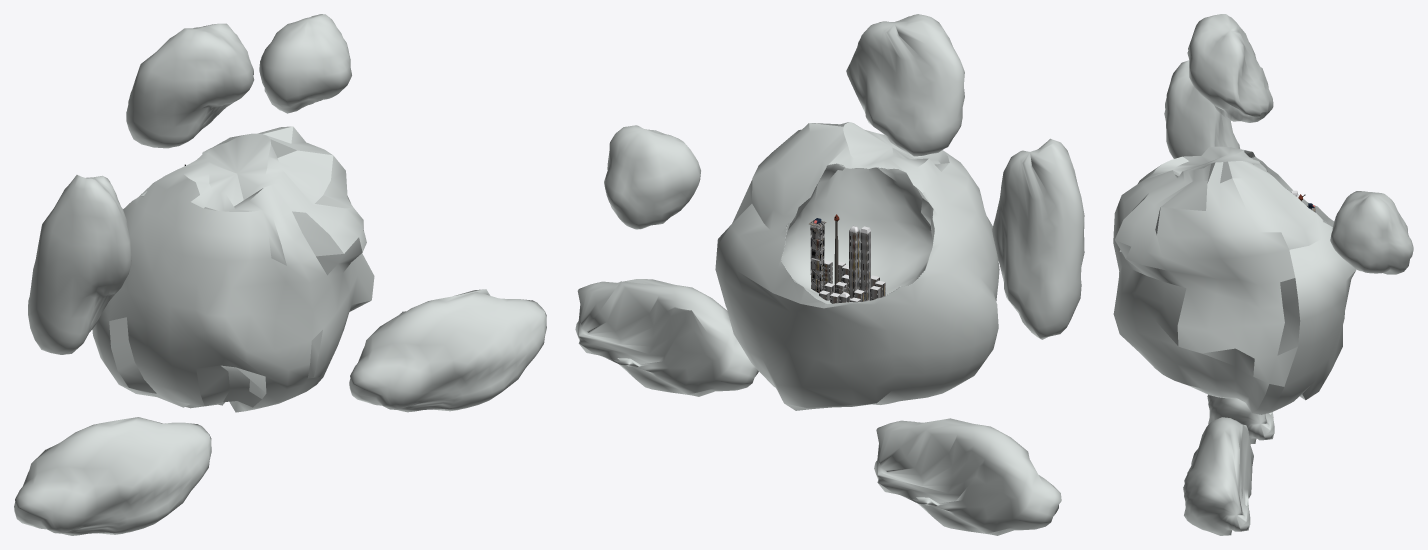
The model's file is asteroid.fbx.
3 views of the same model, side by side, from view 1: azimuth 30°, elevation 25°; view 2: azimuth 150°, elevation 25°; view 3: azimuth 270°, elevation 25° (orthographic). The views are drawn at different scales.
Visible parts, largest first — view 1: Sphere, Sphere.005, Sphere.004, Sphere.003, Sphere.002, Sphere.001; view 2: Sphere, Sphere.004, Sphere.005, Sphere.003, Sphere.002, Sphere.001, Cube.021, Cube, Cube.001; view 3: Sphere, Sphere.005, Sphere.002, Sphere.001, Sphere.003, Sphere.004.
Boxes of the visible parts, bbox=[...] form: Sphere: bbox=[92, 126, 374, 412]; Sphere.005: bbox=[349, 289, 546, 412]; Sphere.004: bbox=[14, 417, 211, 535]; Sphere.003: bbox=[28, 175, 131, 354]; Sphere.002: bbox=[126, 23, 254, 148]; Sphere.001: bbox=[259, 14, 351, 113]; Sphere: bbox=[715, 122, 999, 410]; Sphere.004: bbox=[874, 418, 1061, 535]; Sphere.005: bbox=[575, 279, 758, 396]; Sphere.003: bbox=[992, 138, 1084, 339]; Sphere.002: bbox=[846, 14, 964, 156]; Sphere.001: bbox=[604, 125, 700, 229]; Cube.021: bbox=[808, 219, 826, 292]; Cube: bbox=[860, 226, 870, 301]; Cube.001: bbox=[849, 225, 859, 298]; Sphere: bbox=[1113, 146, 1356, 414]; Sphere.005: bbox=[1183, 417, 1253, 535]; Sphere.002: bbox=[1187, 14, 1273, 122]; Sphere.001: bbox=[1330, 191, 1413, 274]; Sphere.003: bbox=[1164, 60, 1240, 158]; Sphere.004: bbox=[1207, 394, 1274, 443].
Bounding box in the file's own units: 433 × 403 × 244.
